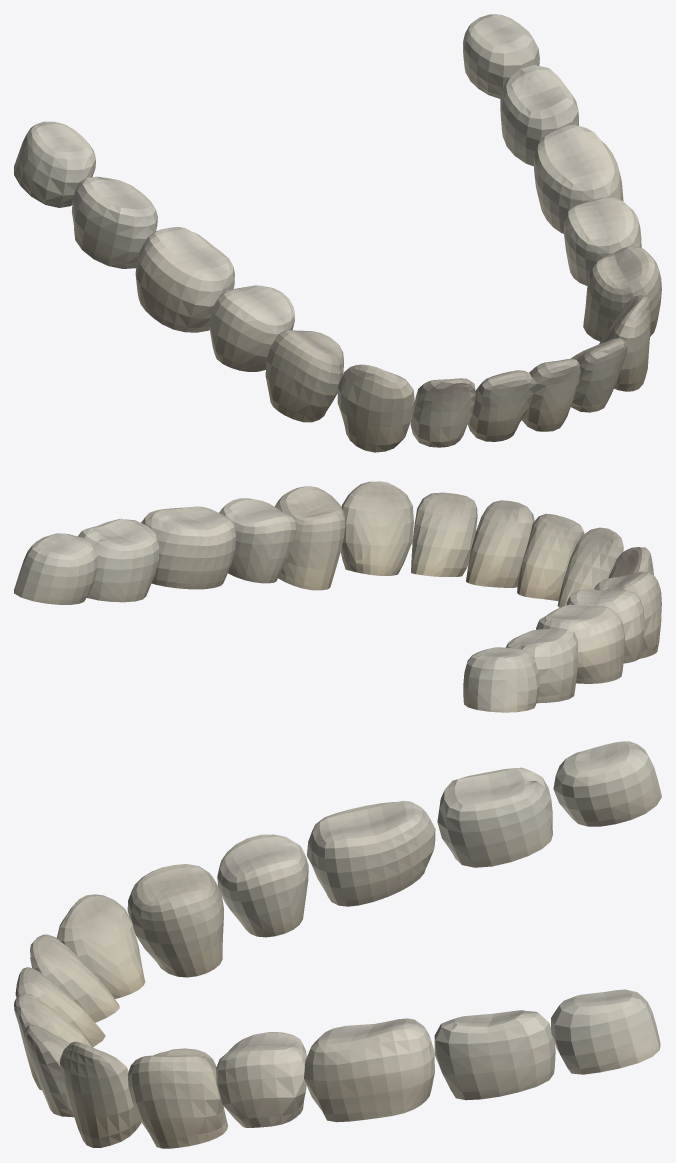
Rendered from Teeth Bottom.obj.
3 renders of one model, top to bottom at view 1: azimuth 30°, elevation 25°; view 2: azimuth 150°, elevation 25°; view 3: azimuth 270°, elevation 25°, orthographic. The views are drawn at different scales.
Visible parts, largest first — view 1: Teeth Bottom; view 2: Teeth Bottom; view 3: Teeth Bottom.
Boxes of the visible parts, left/top/right/bottom form: Teeth Bottom: left=14, top=14, right=661, bottom=452; Teeth Bottom: left=14, top=481, right=661, bottom=712; Teeth Bottom: left=14, top=741, right=661, bottom=1148.
Size of the model in its own units: 0.0809 by 0.027 by 0.0789.
Materials: 1 (1 with a texture image).
